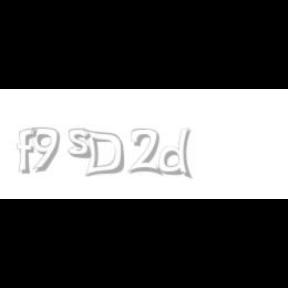2: (127, 128, 161, 176)
9: (30, 128, 60, 172)
D: (82, 128, 124, 178)
d: (159, 128, 196, 180)
f: (17, 128, 41, 174)
s: (68, 128, 96, 160)
